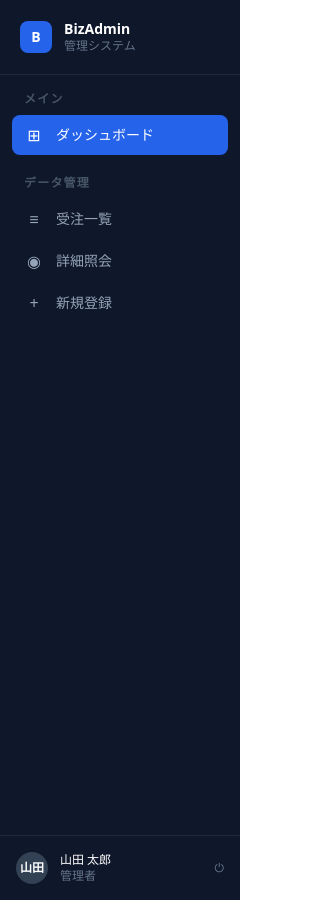
Test case: Sidebar › ⏻ボタンクリックでポップオーバーが表示されること
The image size is (320, 900).
Click the button with test id "power-button" at (219, 868), box [214, 860, 224, 876]
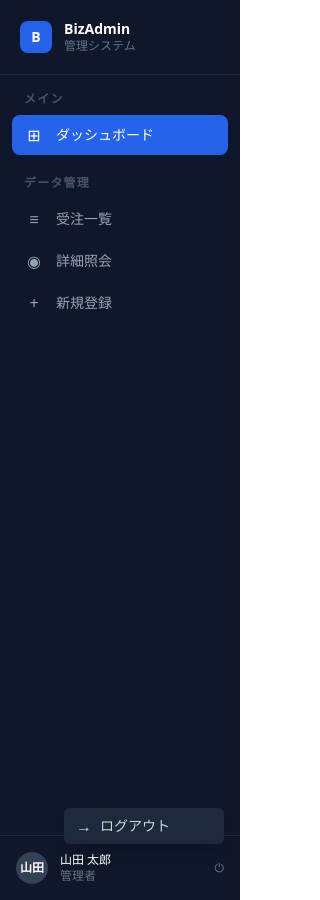
Result: the element with test id "logout-popover" is shown at [64, 808, 224, 844]
